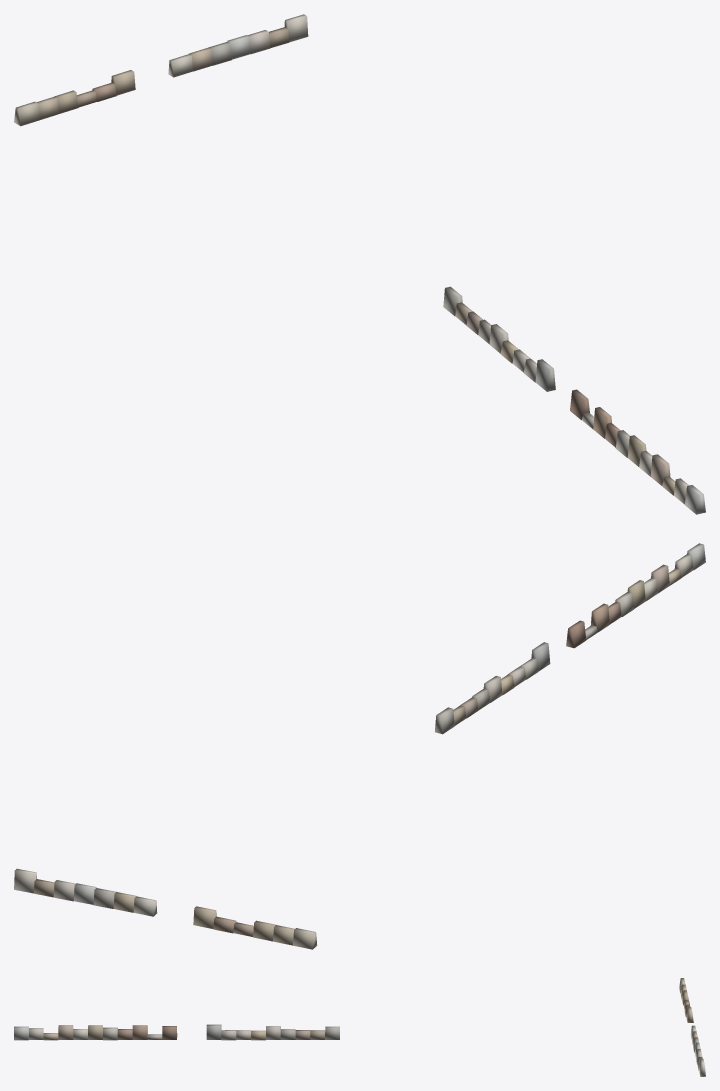
The model's file is farm_24_10_collision.glb.
3 renders of one model, top to bottom at view 1: azimuth 30°, elevation 25°; view 2: azimuth 150°, elevation 25°; view 3: azimuth 270°, elevation 25°, orthographic. The views are drawn at different scales.
Parts seen in each view (by area): view 1: geometry_0; view 2: geometry_0; view 3: geometry_0.
Part boxes in pixels (bbox=[...]): geometry_0: bbox=[14, 14, 705, 514]; geometry_0: bbox=[14, 543, 705, 949]; geometry_0: bbox=[14, 978, 705, 1076].
Bounding box in the file's own units: 22.66 × 2.92 × 73.02.
